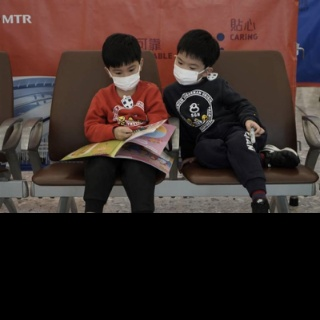with_mask: (173, 56, 204, 85), (110, 63, 140, 92)
